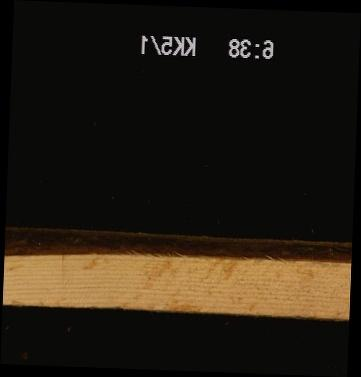wave: (4, 231, 351, 263)
